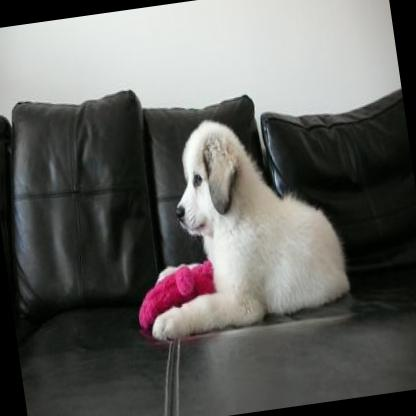Great_Pyrenees: (120, 102, 351, 338)
